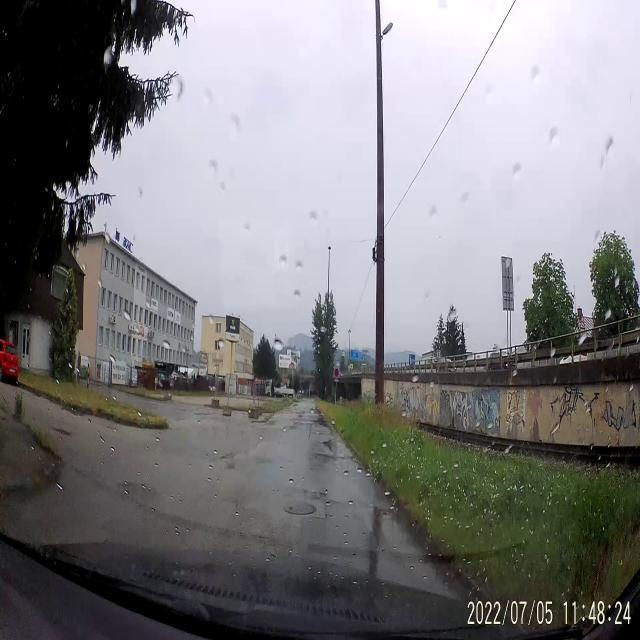Manhole: (282, 493, 316, 522)
Pothole: (52, 424, 71, 438)
